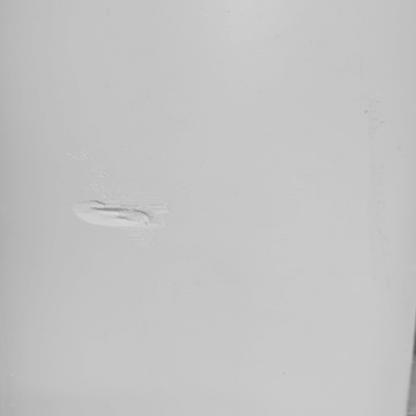sunshang: (70, 198, 164, 230)
